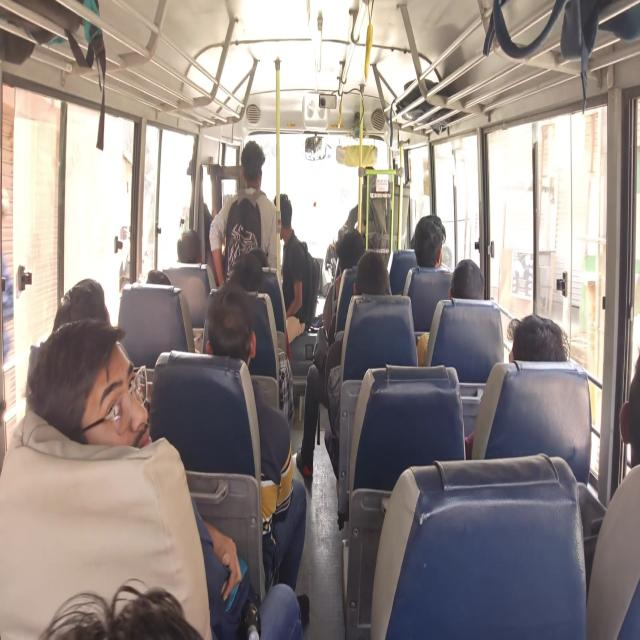person: (29, 338, 154, 459), (52, 280, 164, 359), (55, 566, 163, 640), (603, 364, 640, 463), (506, 311, 562, 375), (205, 289, 254, 350), (453, 260, 504, 315), (238, 131, 270, 203), (419, 215, 449, 283), (136, 264, 180, 307), (236, 264, 284, 302), (173, 222, 206, 276), (362, 254, 395, 307), (271, 188, 297, 236), (334, 228, 361, 272), (408, 224, 433, 267), (248, 242, 274, 282)
